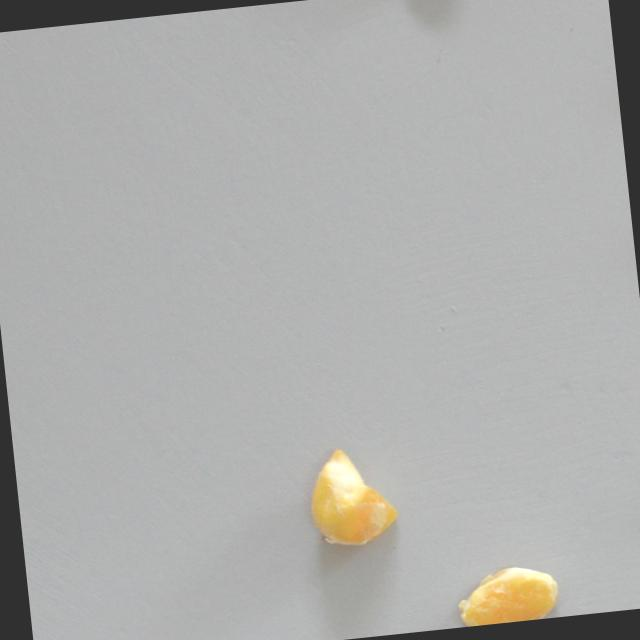pelicula: (307, 440, 401, 554), (448, 547, 562, 628)
